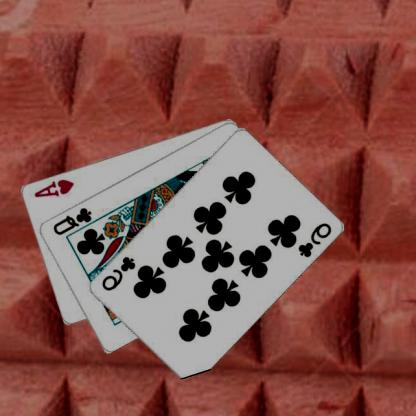9C: (296, 220, 334, 259), (100, 254, 138, 292)
AH: (33, 176, 77, 198)
QC: (51, 204, 94, 237)
